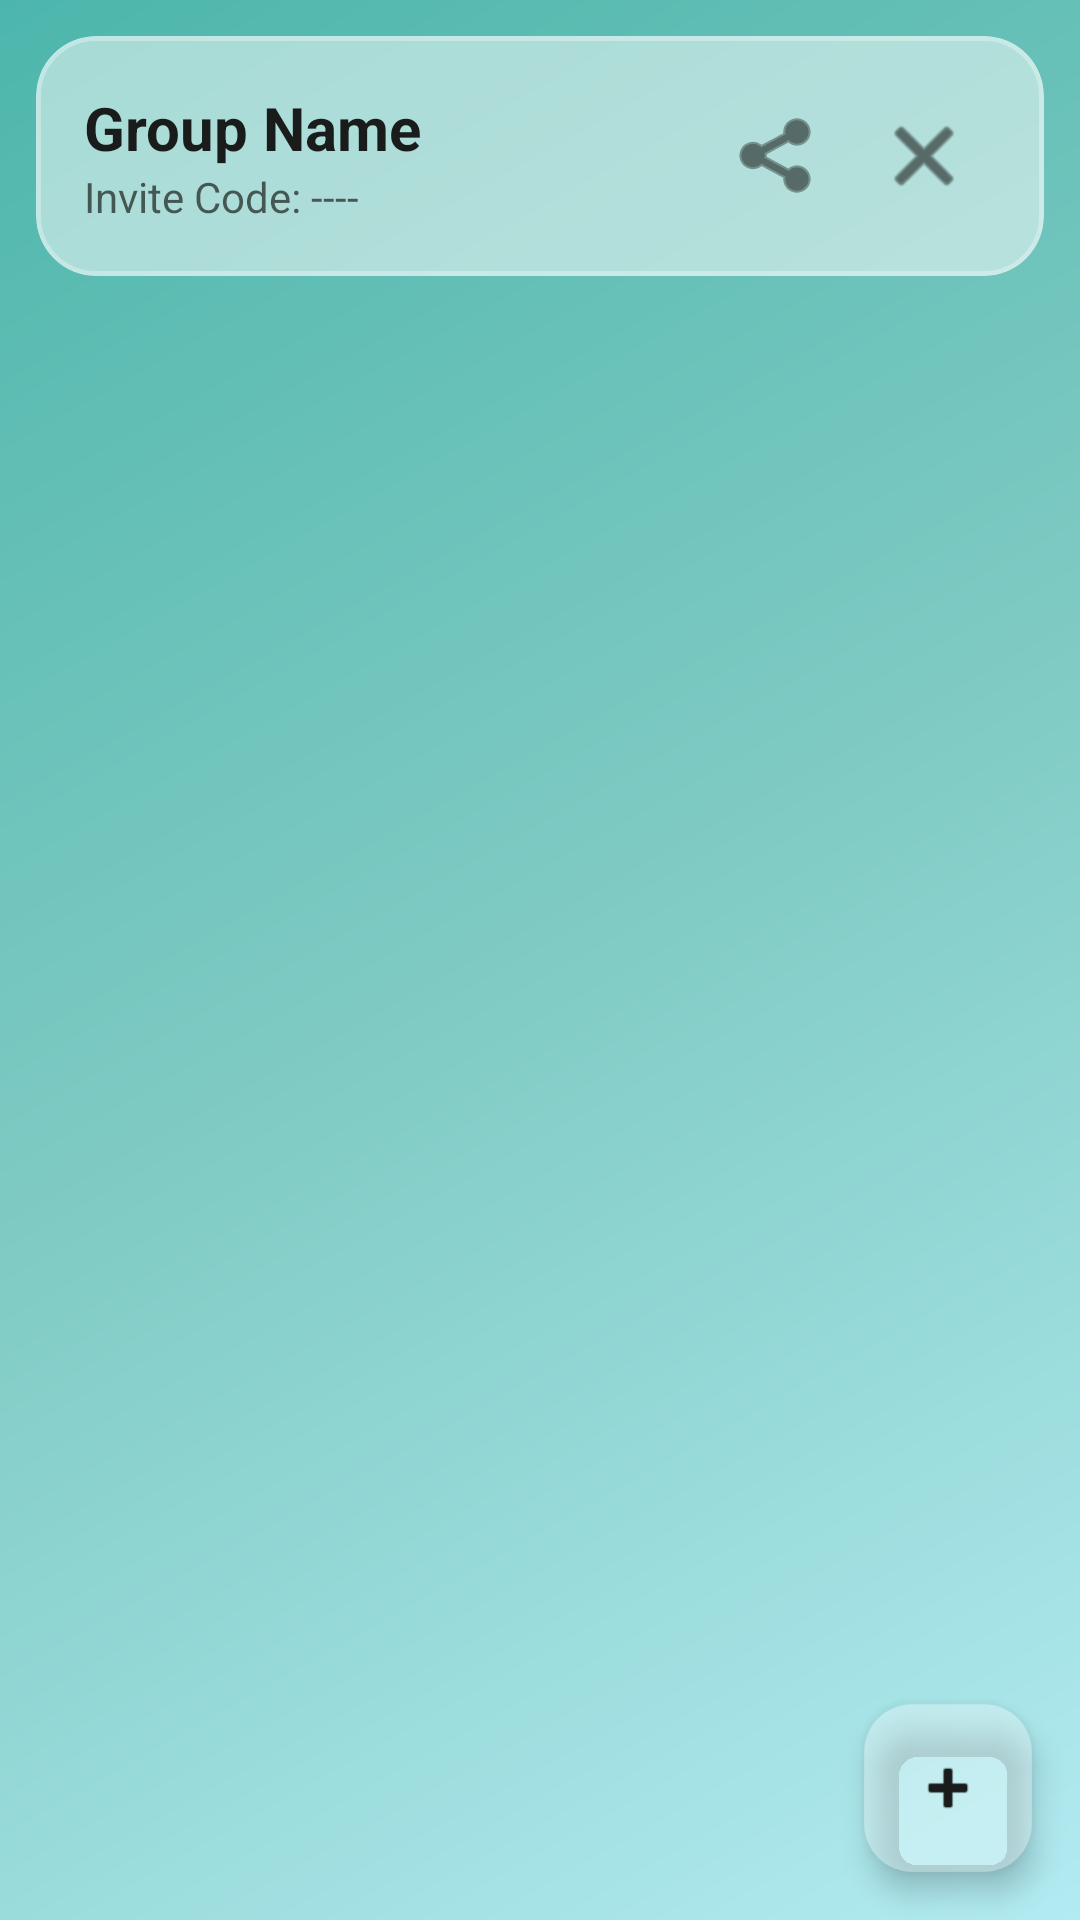

Where icons sit on this 1080px x 1920px app screen, as (x1, y1, x2, y2):
add: (865, 1705, 1030, 1865)
close clear cancel: (894, 126, 954, 186)
share: (739, 118, 811, 193)
